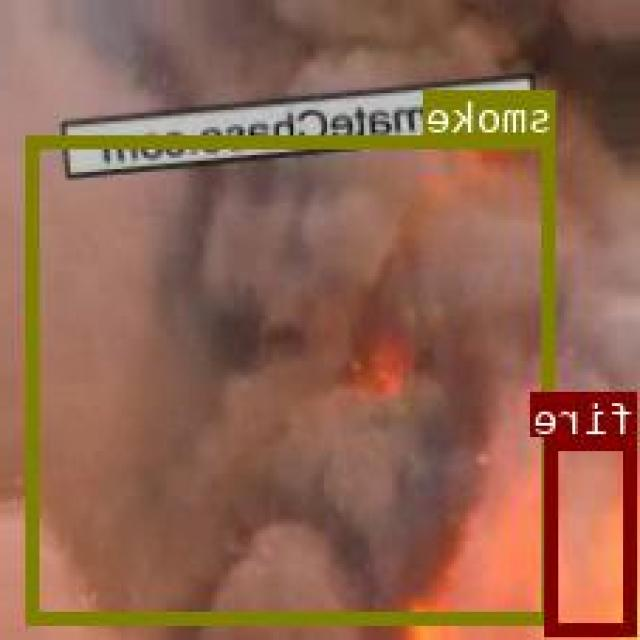fire: (549, 434, 640, 632)
smoke: (29, 134, 556, 620)
